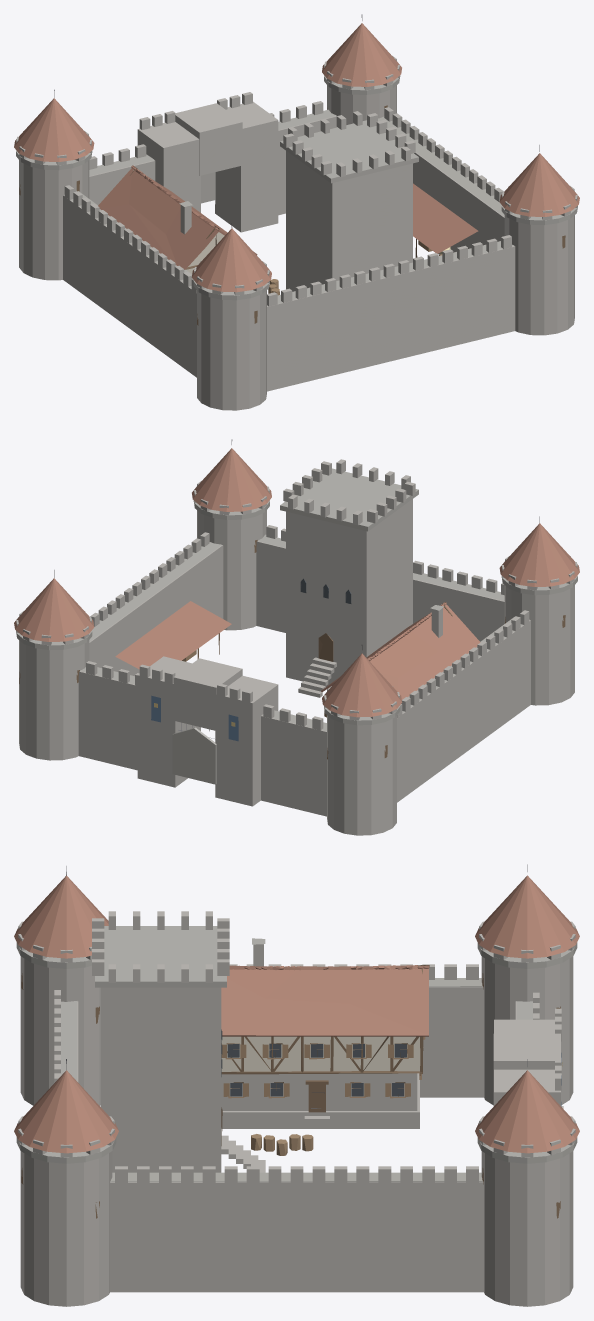
Rendered from castle_lod1.glb.
3 views of the same model, one above another, from view 1: azimuth 30°, elevation 25°; view 2: azimuth 150°, elevation 25°; view 3: azimuth 270°, elevation 25° (orthographic). The views are drawn at different scales.
Parts seen in each view (by area): view 1: castle.001; view 2: castle.001; view 3: castle.001.
Boxes of the visible parts, x1,y1,x2,y2 form: castle.001: (14, 14, 579, 410); castle.001: (14, 439, 579, 835); castle.001: (14, 864, 579, 1306).
Size of the model in its own units: 42 by 20.45 by 42.
